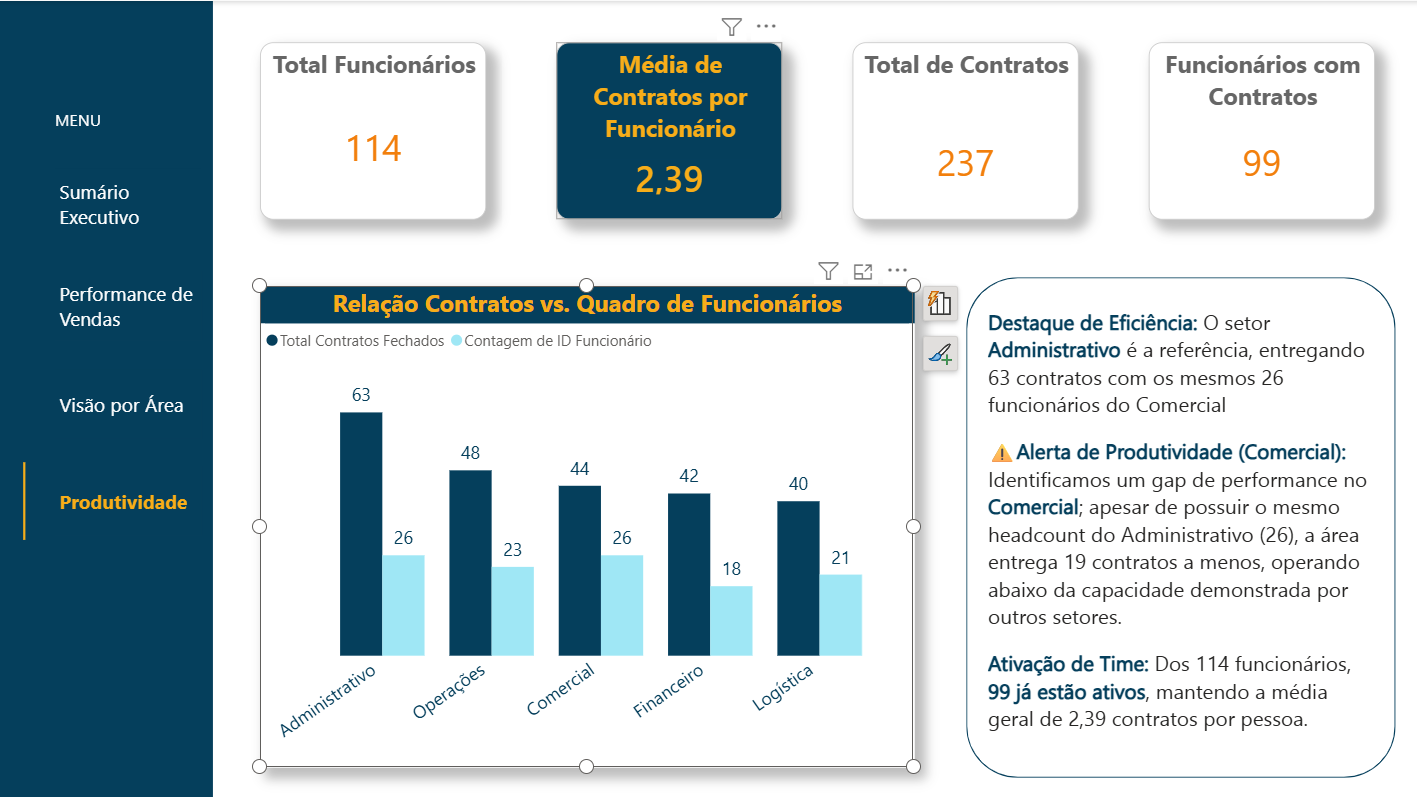

The dashboard page shown, as its layout file describes it:
{"tool":"powerbi","page":{"name":"Produtividade","canvas":[1280,720],"ordinal":3},"visuals":[{"type":"clusteredColumnChart","title":"Relação Contratos vs. Quadro de Funcionários ","fields":{"Category":["dCadastroFuncionarios.Area"],"Y":["Tab_Medidas.Total Contratos Fechados","CountNonNull(dCadastroFuncionarios.ID Funcionário)"]},"box":[234.3,257.1,590,434.3],"z":0},{"type":"shape","box":[0,0,192,720.2],"z":1000},{"type":"cardVisual","title":"Total Funcionários","fields":{"Data":["CountNonNull(dCadastroFuncionarios.ID Funcionário)"]},"box":[234.8,36.7,204.2,160],"z":2000},{"type":"cardVisual","title":"Média de Contratos por Funcionário  ","fields":{"Data":["Tab_Medidas.Taxa de Produtividade (Contratos por Funcionario)"]},"box":[501.8,36.7,204.2,160],"z":3000},{"type":"cardVisual","title":"Total de Contratos ","fields":{"Data":["Tab_Medidas.Total Contratos Fechados"]},"box":[768.8,36.7,204.2,160],"z":4000},{"type":"cardVisual","title":"Funcionários com Contratos ","fields":{"Data":["Tab_Medidas.Total Funcionários Ativos"]},"box":[1035.7,36.7,204.2,160],"z":5000},{"type":"shape","box":[871.4,248.6,387.1,451.4],"z":6000},{"type":"textbox","box":[885.7,271.4,354.3,411.4],"z":7000},{"type":"shape","box":[50,84,100,43.8],"z":8000},{"type":"actionButton","box":[50,151.3,132,63],"z":9000},{"type":"shape","box":[11.2,415.6,21.2,70],"z":10000},{"type":"actionButton","box":[50,243.5,132.5,62.5],"z":11000},{"type":"actionButton","box":[50,332.4,132.5,62.5],"z":12000},{"type":"actionButton","box":[50,419.4,132.5,62.5],"z":13000}]}

Visuals, with their boxes on the page's 1280x720 design canvas (x1, y1, x2, y2). These are canvas units, not pixel positions in the 1417x797 screenshot, which may show the page scaled, cropped or inside an application window:
"Relação Contratos vs. Quadro de Funcionários " clusteredColumnChart: [left=234, top=257, right=824, bottom=691]
shape: [left=0, top=0, right=192, bottom=720]
"Total Funcionários" cardVisual: [left=235, top=37, right=439, bottom=197]
"Média de Contratos por Funcionário  " cardVisual: [left=502, top=37, right=706, bottom=197]
"Total de Contratos " cardVisual: [left=769, top=37, right=973, bottom=197]
"Funcionários com Contratos " cardVisual: [left=1036, top=37, right=1240, bottom=197]
shape: [left=871, top=249, right=1258, bottom=700]
textbox: [left=886, top=271, right=1240, bottom=683]
shape: [left=50, top=84, right=150, bottom=128]
actionButton: [left=50, top=151, right=182, bottom=214]
shape: [left=11, top=416, right=32, bottom=486]
actionButton: [left=50, top=244, right=182, bottom=306]
actionButton: [left=50, top=332, right=182, bottom=395]
actionButton: [left=50, top=419, right=182, bottom=482]
